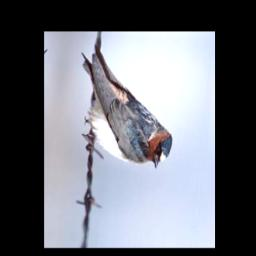Swallow: (67, 43, 183, 169)
